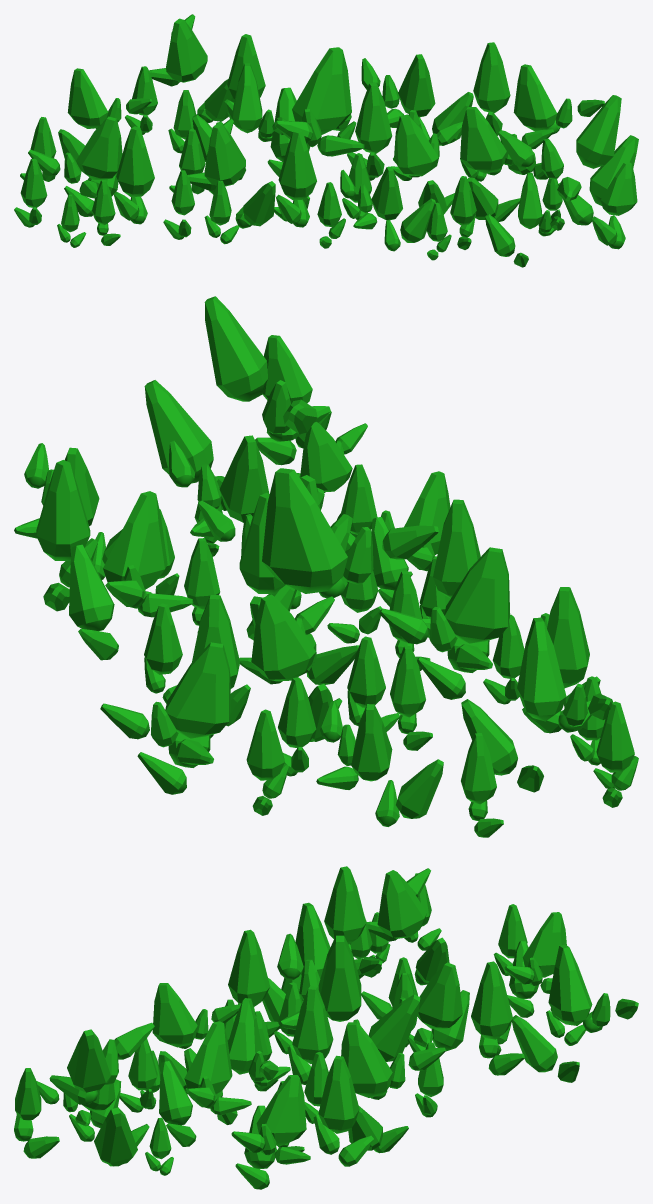
Rendered from canopy.obj.
3 renders of one model, top to bottom at view 1: azimuth 30°, elevation 25°; view 2: azimuth 150°, elevation 25°; view 3: azimuth 270°, elevation 25°, orthographic. The views are drawn at different scales.
Parts seen in each view (by area): view 1: Pyramid085; view 2: Pyramid085; view 3: Pyramid085.
Part boxes in pixels (x1,y1,x2,y2): Pyramid085: (14,14,638,267); Pyramid085: (14,296,638,837); Pyramid085: (14,866,638,1189).
Size of the model in its own units: 794 by 230 by 786.
